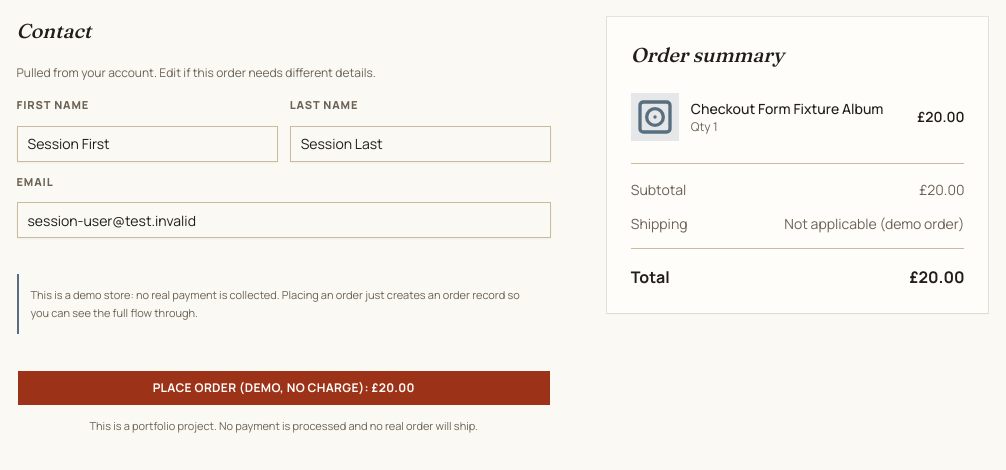
CheckoutForm › shows an error and does not submit the order when the cart sync fails
Click the button "Place order (demo, no charge): £20.00": click(284, 388) [16, 370, 551, 406]
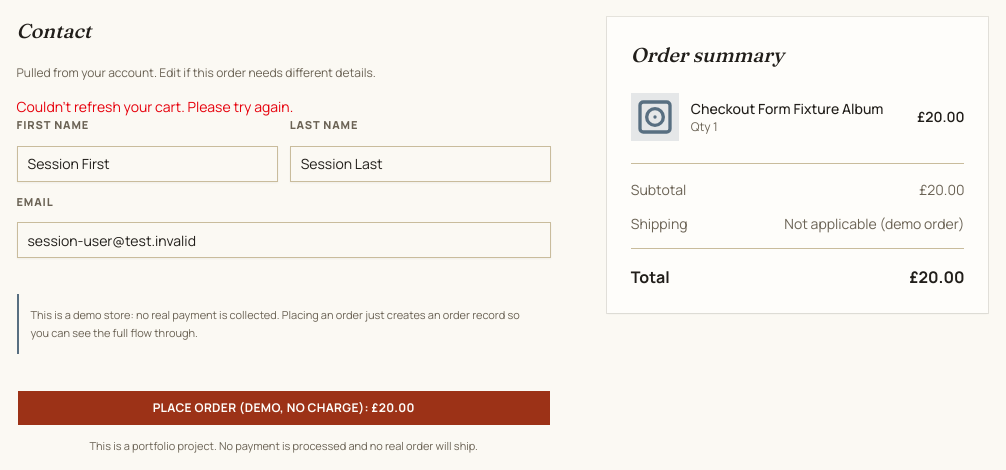
Expected: the text "Couldn't refresh your cart. Please try again." is shown, [16, 97, 293, 116]
